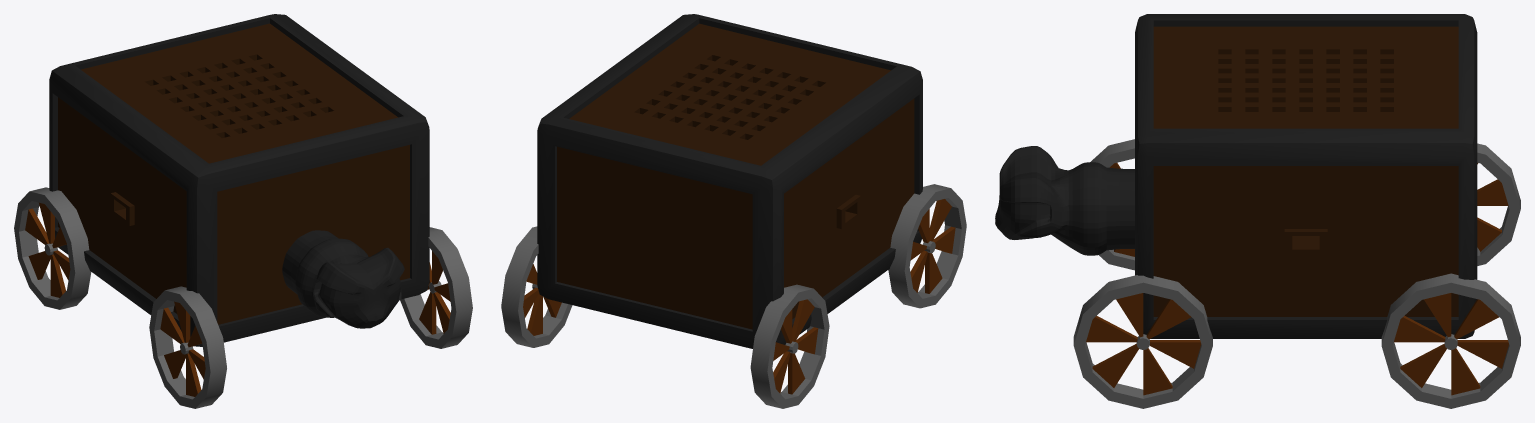
Rendered from Ram_Head.fbx.
The picture shows the model from 3 angles, left to right: view 1: azimuth 30°, elevation 25°; view 2: azimuth 150°, elevation 25°; view 3: azimuth 270°, elevation 25°; orthographic projection. The views are drawn at different scales.
Parts seen in each view (by area): view 1: Object, Object004, Object002, Object006, Cylinder001, Cylinder002, Cylinder003, Cylinder004, Group001, Group002, Group003; view 2: Object, Object010, Object004, Object006, Cylinder003, Cylinder002, Cylinder005, Group001, Group002, Group004; view 3: Object018, Object004, Object, Cylinder001, Cylinder004, Cylinder005, Group004, Group003, Cylinder003, Cylinder002, Group002.
Part boxes in pixels (x1,y1,x2,y2): Object: [49, 14, 429, 346]; Object004: [81, 23, 397, 163]; Object002: [217, 145, 409, 324]; Object006: [58, 97, 186, 313]; Cylinder001: [282, 230, 404, 328]; Cylinder002: [149, 286, 226, 408]; Cylinder003: [14, 187, 91, 309]; Cylinder004: [400, 227, 472, 348]; Group001: [160, 301, 205, 396]; Group002: [25, 202, 70, 297]; Group003: [419, 251, 450, 334]; Object: [537, 14, 922, 348]; Object010: [557, 146, 752, 329]; Object004: [569, 23, 890, 165]; Object006: [784, 98, 914, 318]; Cylinder003: [750, 284, 829, 408]; Cylinder002: [888, 184, 966, 308]; Cylinder005: [501, 226, 572, 347]; Group001: [910, 199, 955, 293]; Group002: [773, 299, 818, 394]; Group004: [523, 264, 561, 335]; Object018: [1153, 166, 1458, 316]; Object004: [1153, 26, 1458, 128]; Object: [1135, 14, 1477, 338]; Cylinder001: [995, 146, 1134, 255]; Cylinder004: [1073, 275, 1212, 408]; Cylinder005: [1381, 273, 1520, 408]; Group004: [1394, 293, 1508, 395]; Group003: [1086, 293, 1201, 395]; Cylinder003: [1477, 143, 1520, 265]; Cylinder002: [1090, 139, 1134, 270]; Group002: [1477, 163, 1508, 251].
Size of the model in its own units: 145 by 121 by 221.
